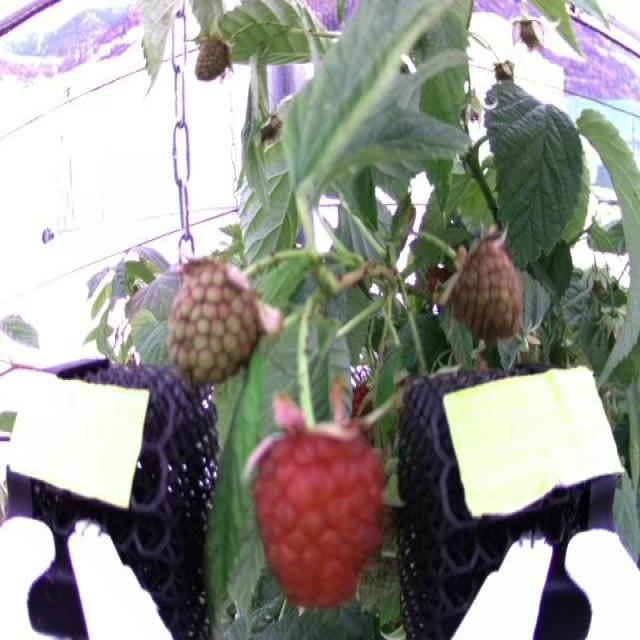Riped berries: (247, 397, 395, 608)
